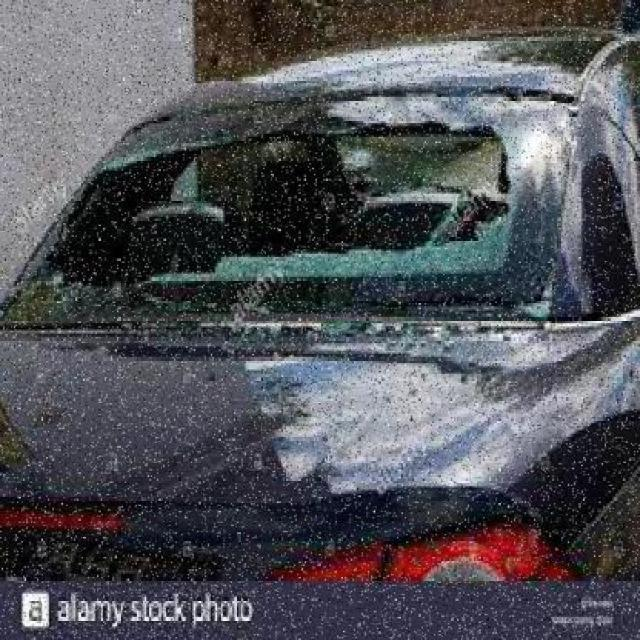Rear-windscreen-Damage: (0, 83, 580, 399)
